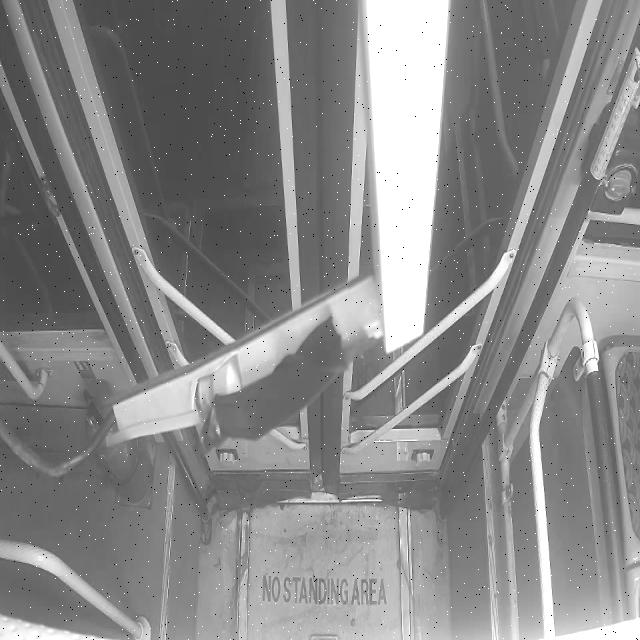close: (74, 4, 576, 490)
